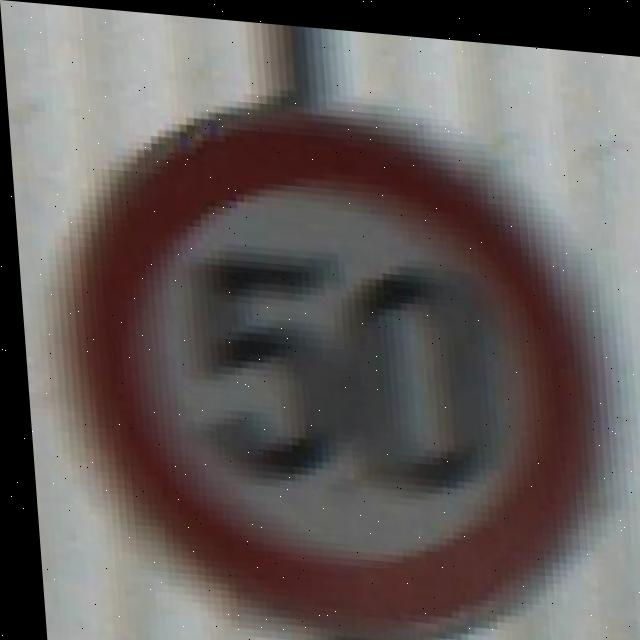Speed limit 50: (56, 80, 624, 640)
